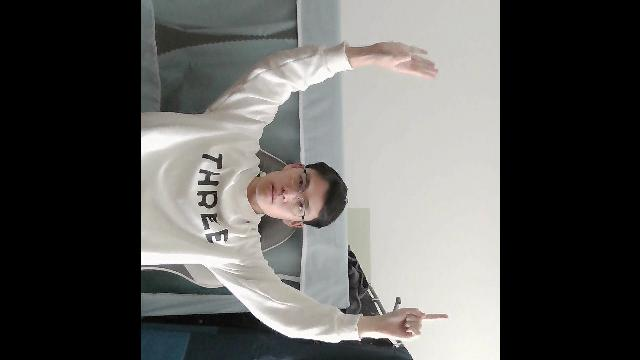four: (360, 40, 440, 80)
one: (366, 308, 449, 340)
